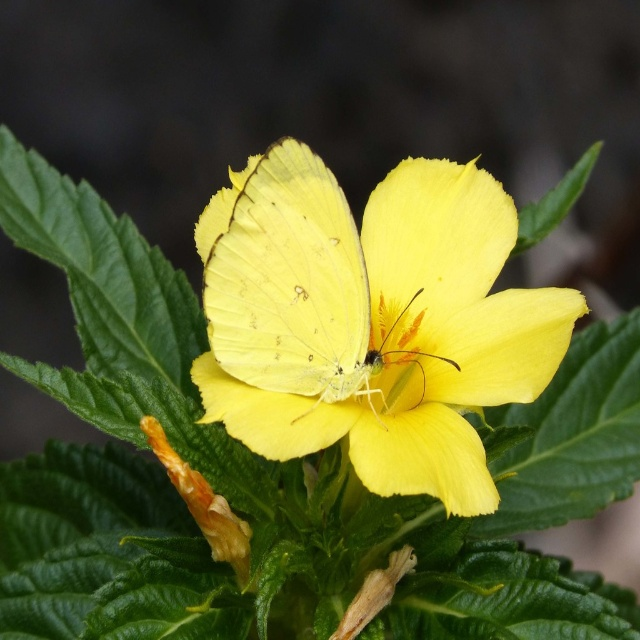Butterfly: (202, 135, 460, 434)
